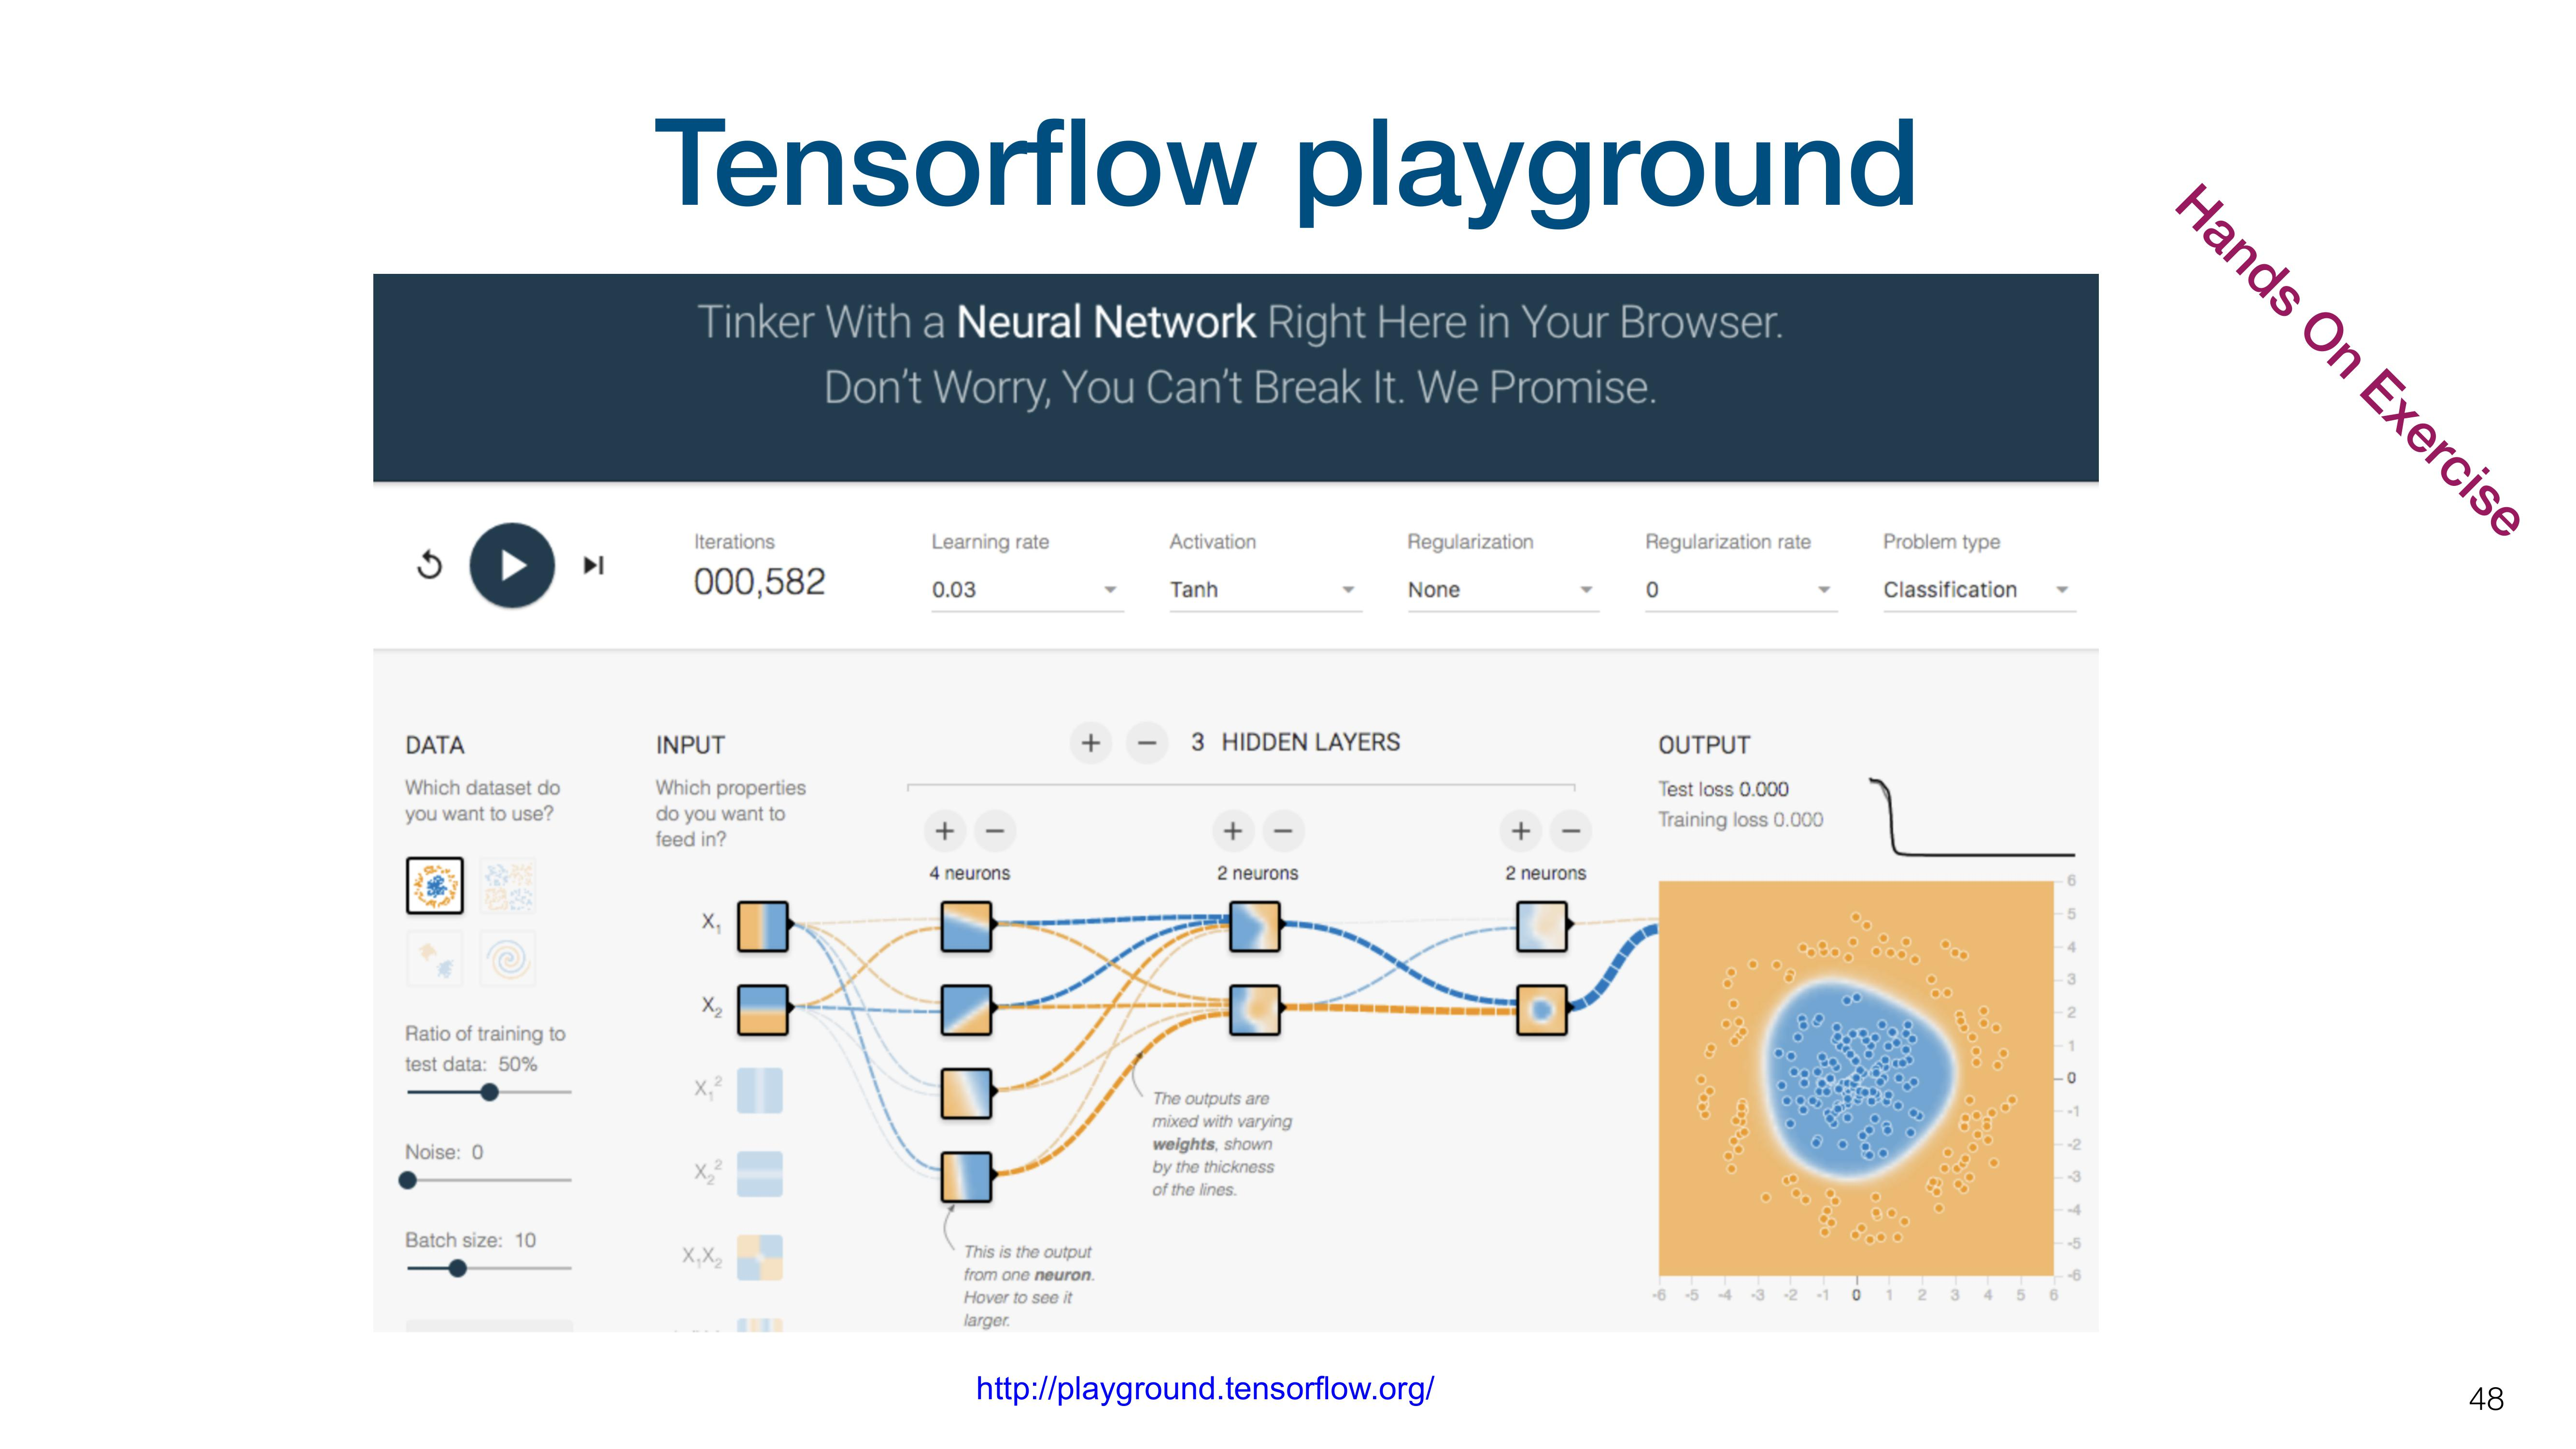Title: (610, 92, 1946, 239)
